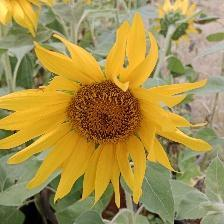sunflower: (21, 51, 198, 199)
